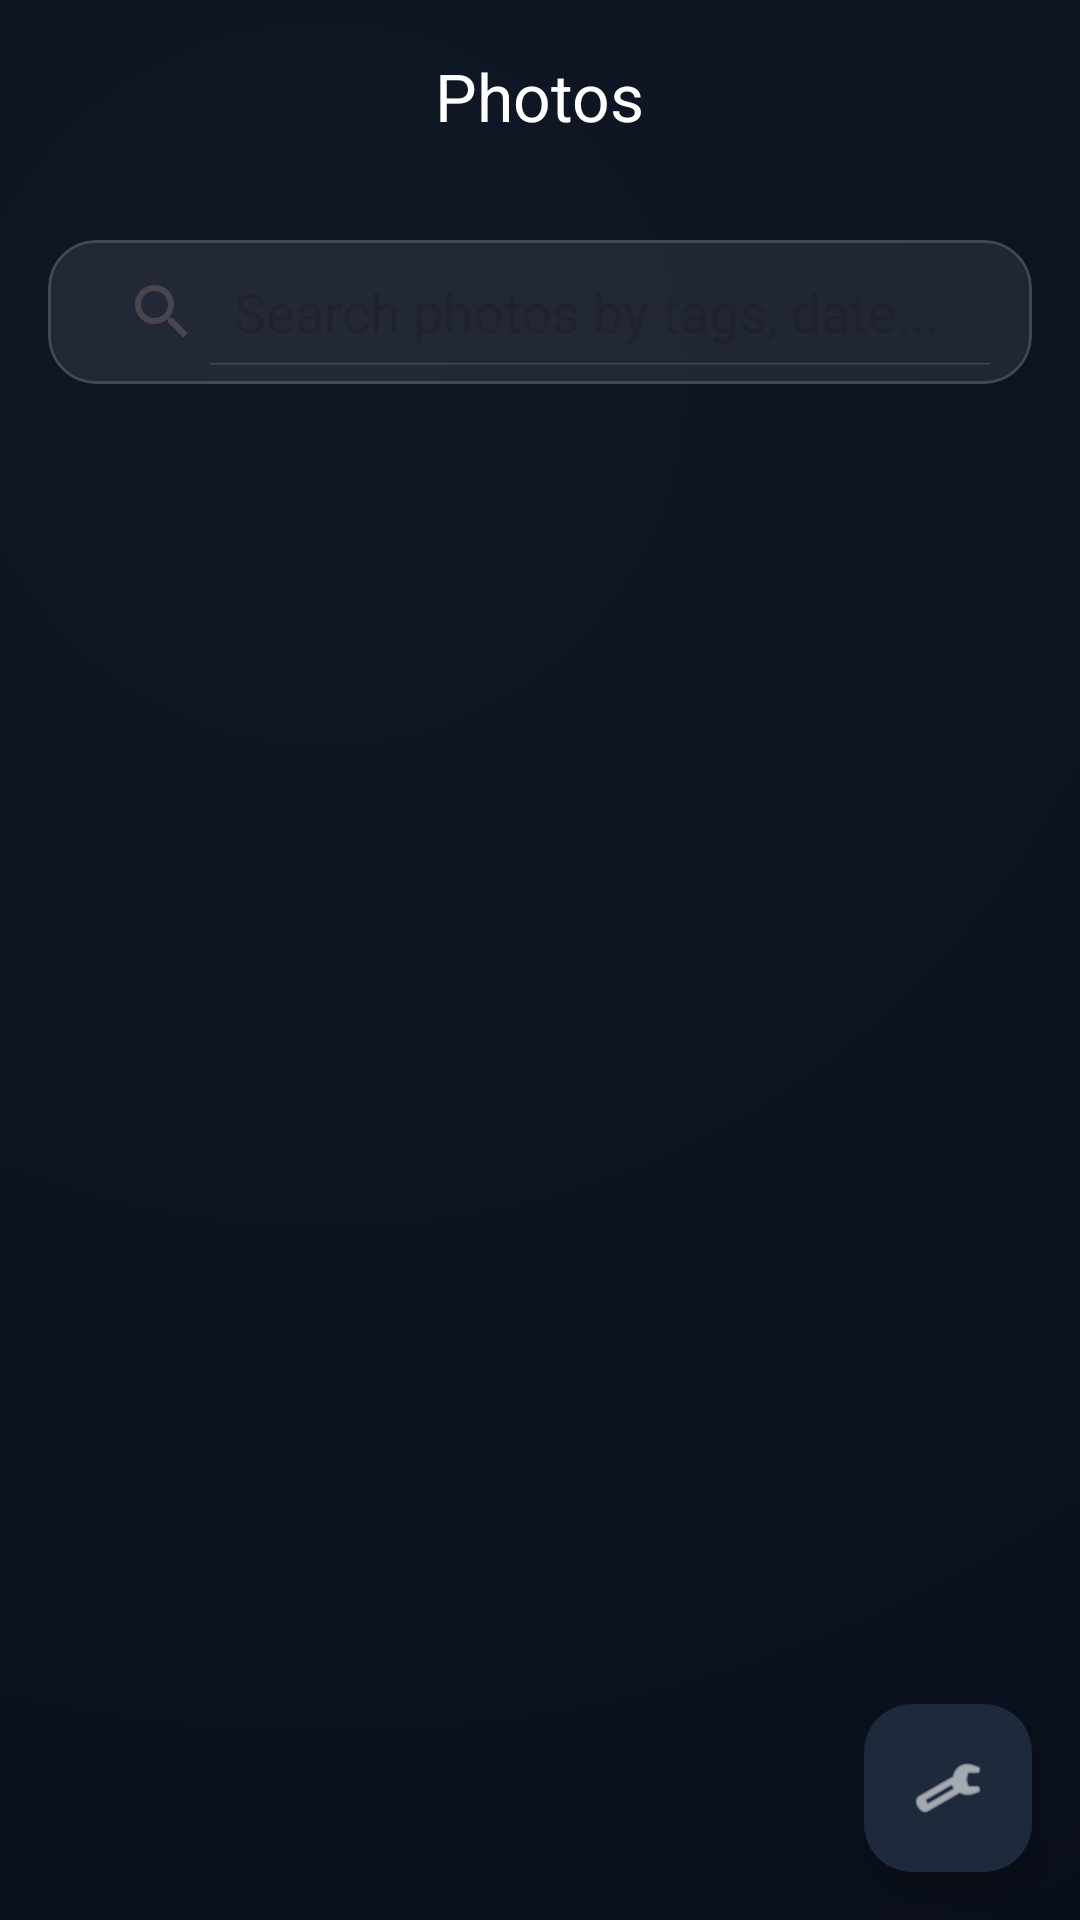

Icon bounding boxes for this 1080x1920 phone screenshot, format [x1,y1,x2,y2]:
manage: [864,1704,1032,1872]
